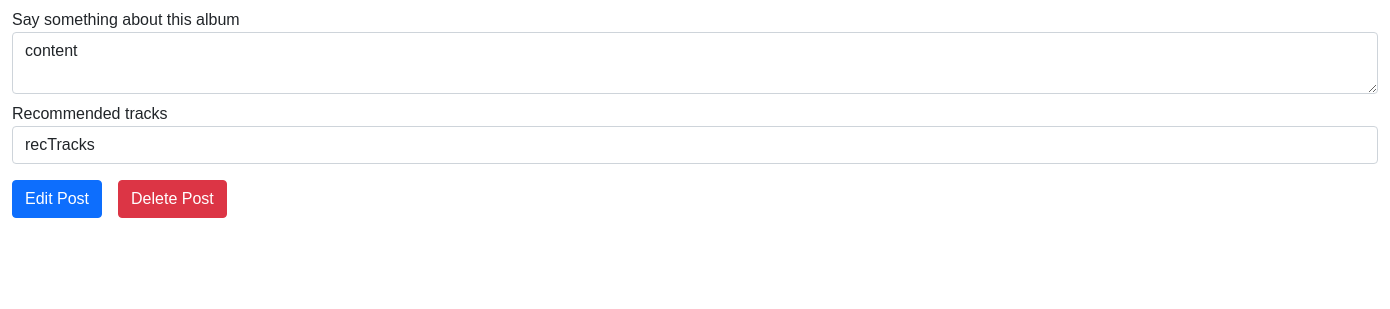
it: EditPostForm › Shows error on failed submit
The image size is (1390, 309).
Click the button "Edit Post" at {"x": 57, "y": 199}, box [12,180,102,218]
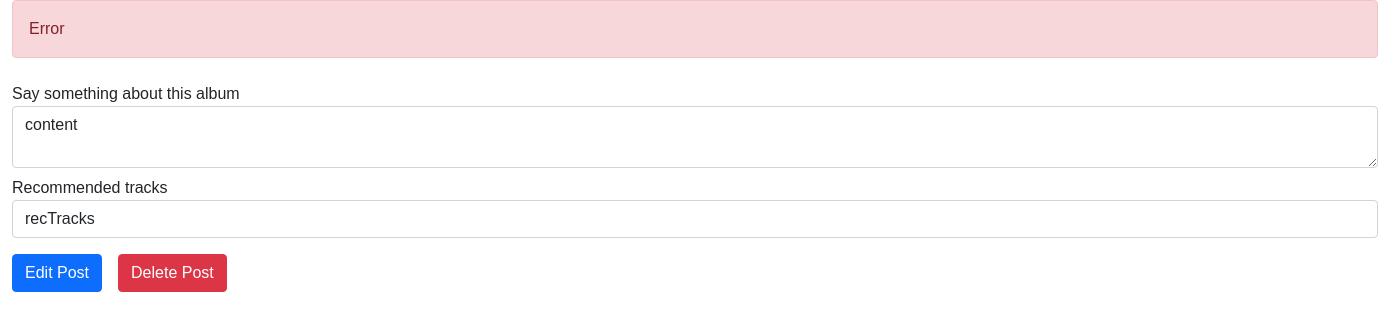
Expected: the text "Error" is shown, [12,0,1378,58]
